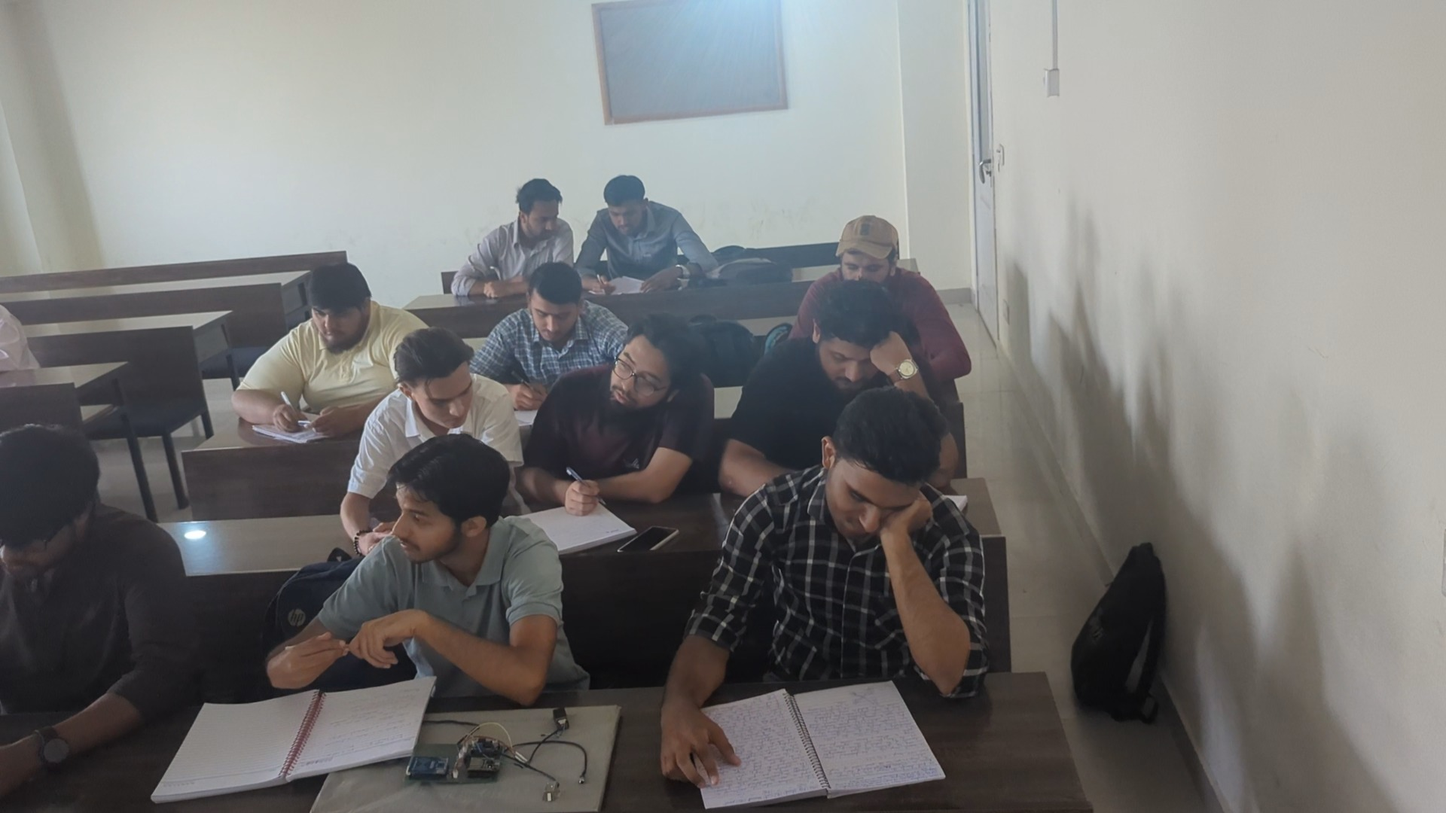look_forward: (348, 455, 529, 628), (589, 316, 687, 465), (819, 220, 921, 281)
read: (791, 404, 978, 813), (804, 302, 991, 508)
turn_head: (368, 352, 533, 460), (481, 173, 583, 261)
using_device: (0, 390, 168, 789)
write: (256, 245, 377, 434), (501, 267, 579, 423), (594, 175, 681, 303)
